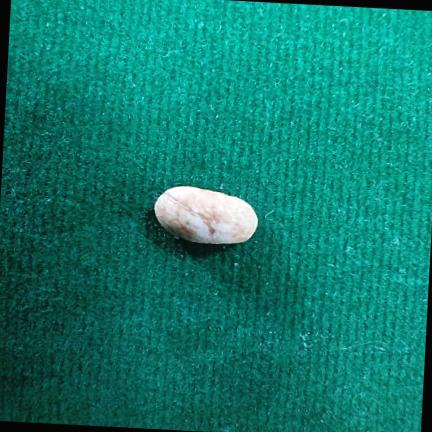shell: (155, 186, 257, 244)
